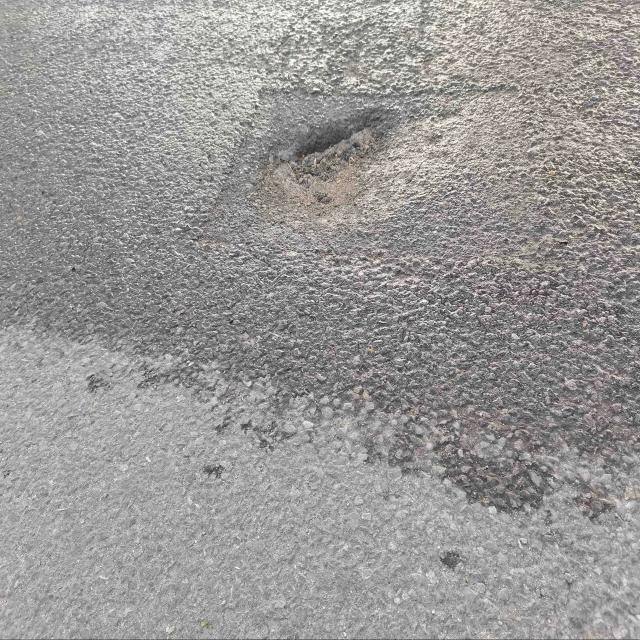Pothole: (263, 98, 390, 237)
